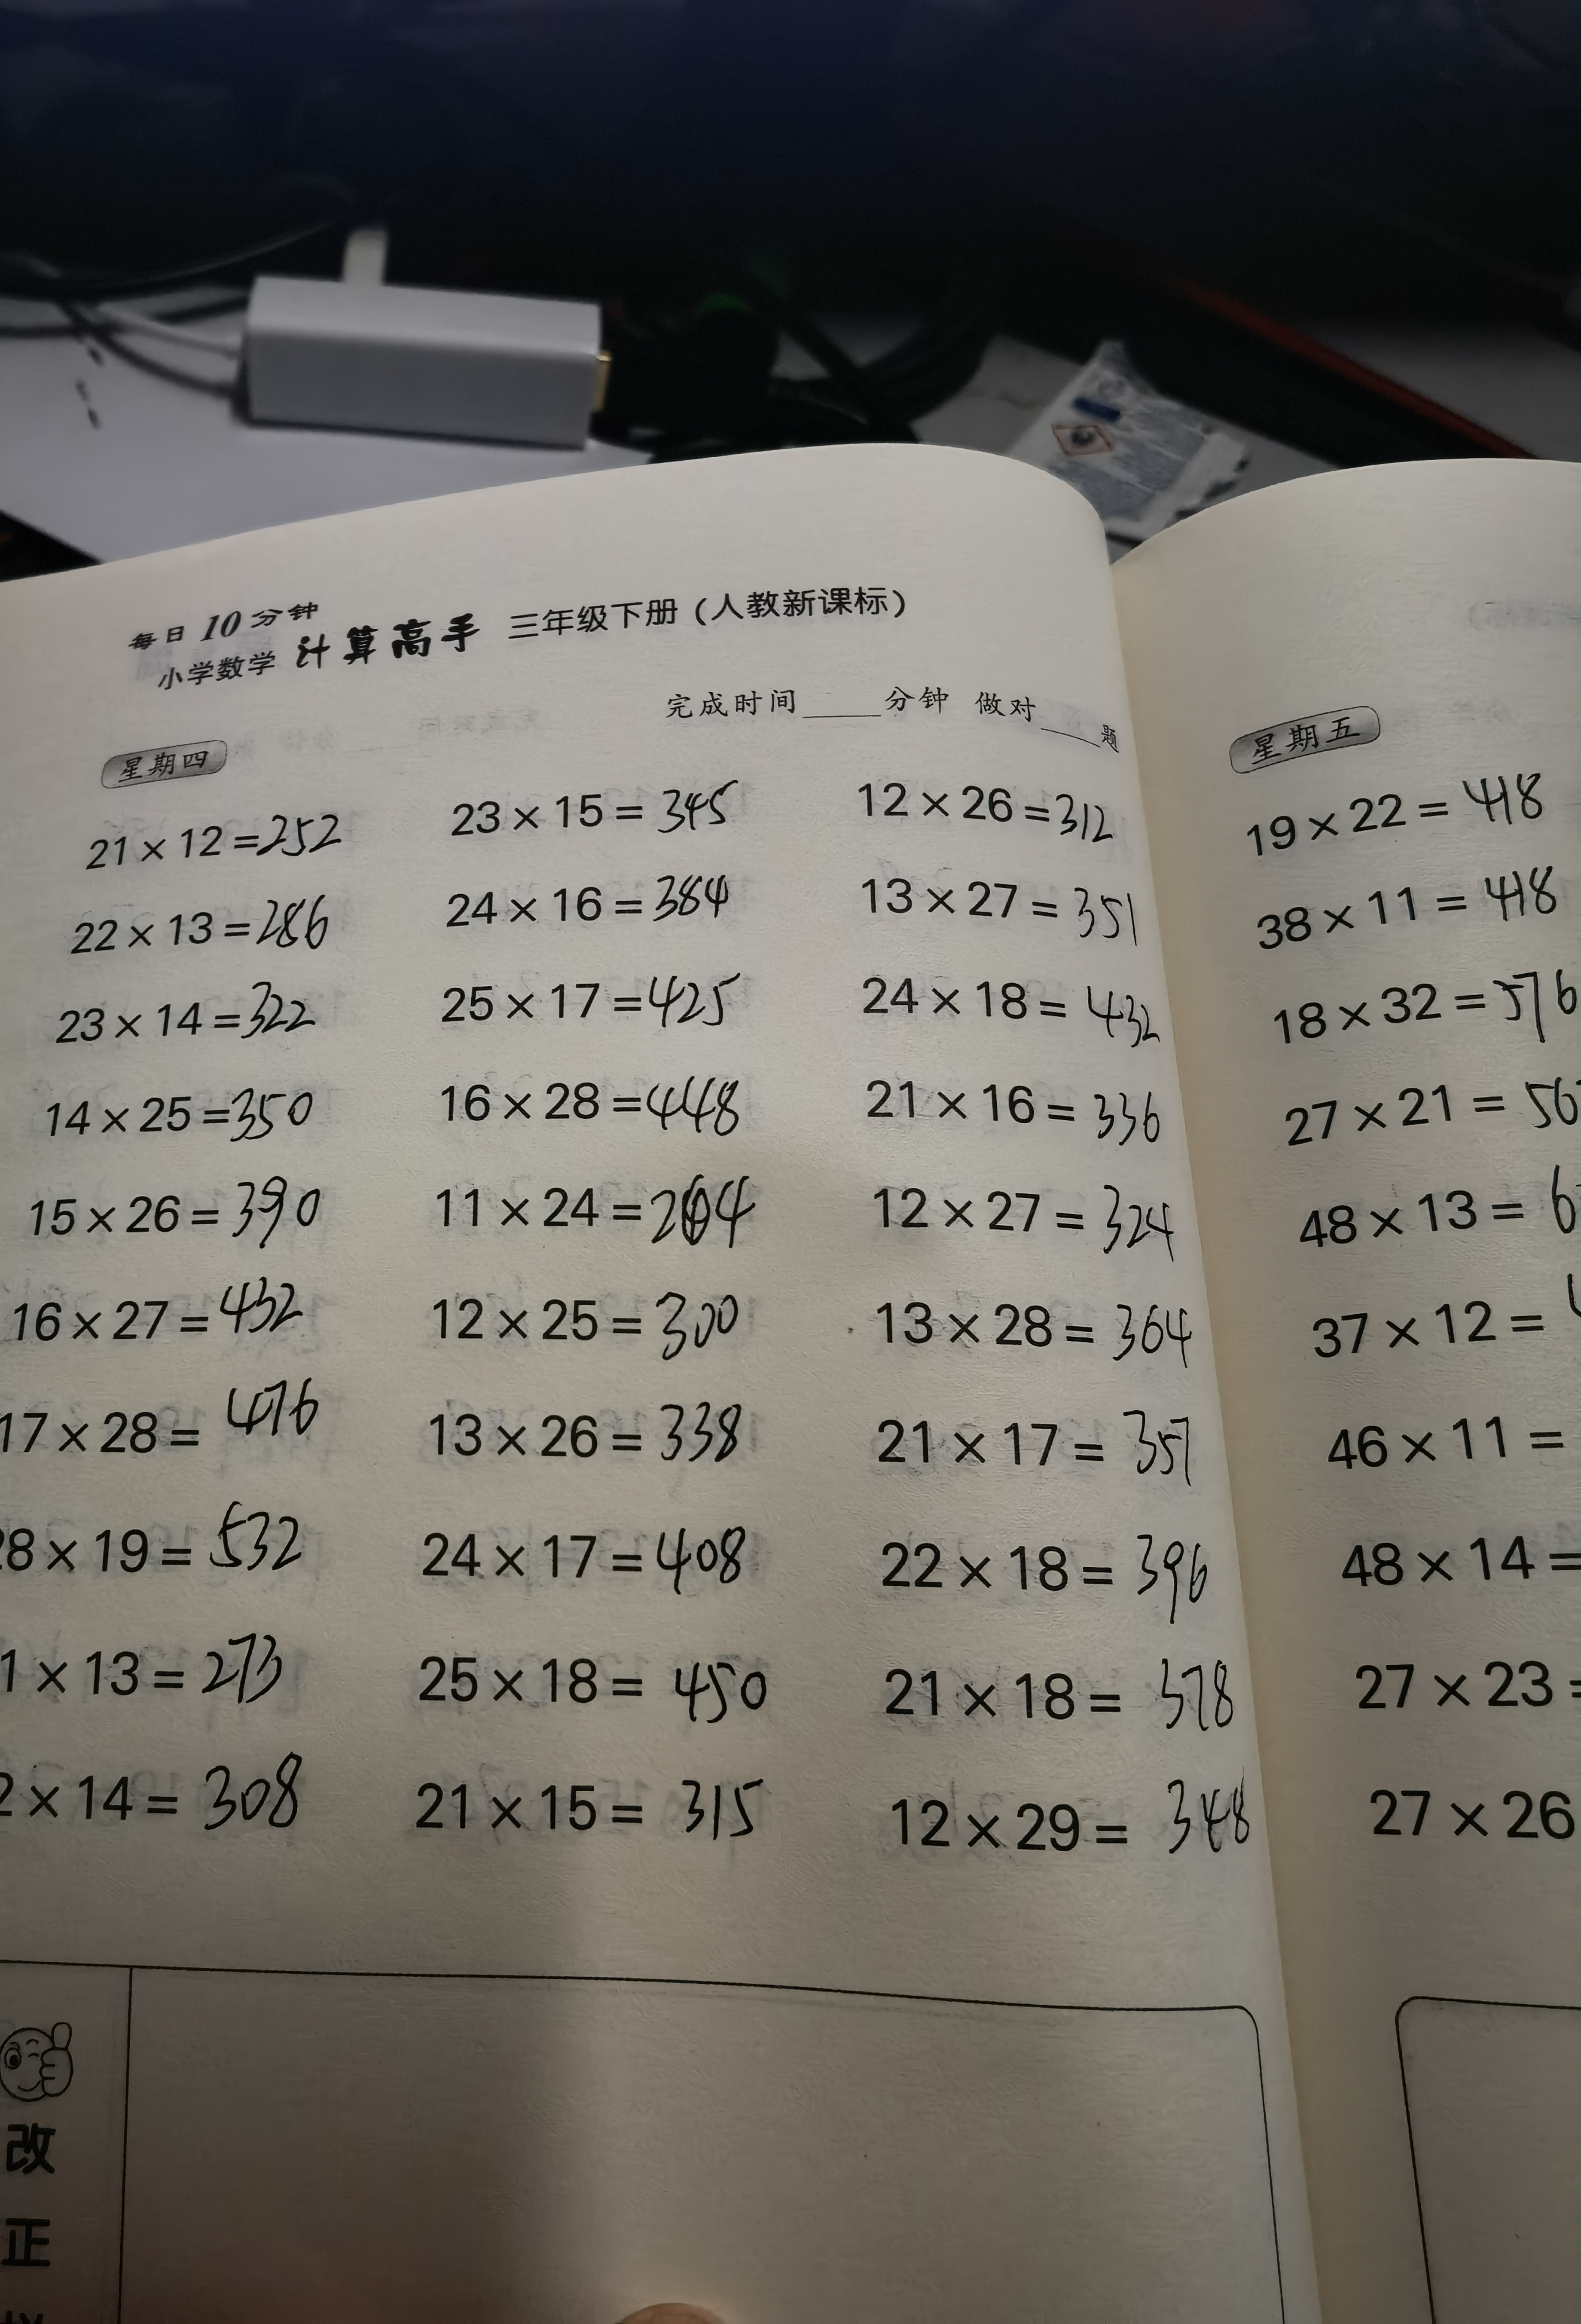equation: (388, 1752, 783, 1892), (877, 1631, 1230, 1773), (879, 1749, 1256, 1879), (392, 1618, 773, 1743), (409, 1486, 790, 1597), (884, 1502, 1214, 1627), (866, 1385, 1230, 1498), (868, 949, 1186, 1075), (425, 1163, 782, 1272), (5, 1736, 328, 1856), (431, 1376, 766, 1488), (431, 1052, 771, 1161), (427, 1271, 766, 1371), (858, 845, 1175, 948), (856, 741, 1143, 854), (873, 1281, 1207, 1378), (831, 1181, 1195, 1267), (5, 1618, 311, 1715), (16, 1505, 346, 1592), (861, 1078, 1200, 1158), (7, 1385, 335, 1466), (14, 1165, 341, 1242), (441, 868, 748, 948), (5, 1272, 316, 1346), (432, 963, 762, 1029), (37, 893, 341, 963), (39, 986, 330, 1053), (56, 805, 351, 870), (427, 780, 778, 833), (32, 1076, 330, 1138)
